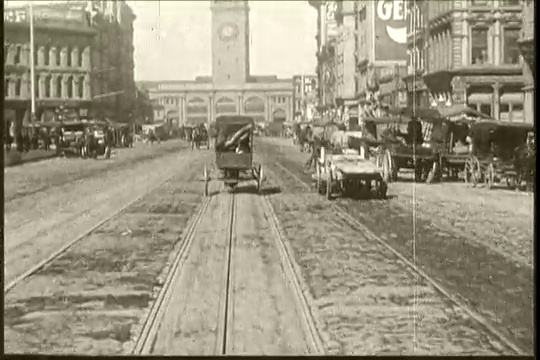carriage: (301, 139, 398, 206), (459, 112, 530, 193), (196, 114, 267, 193), (381, 110, 444, 191)
